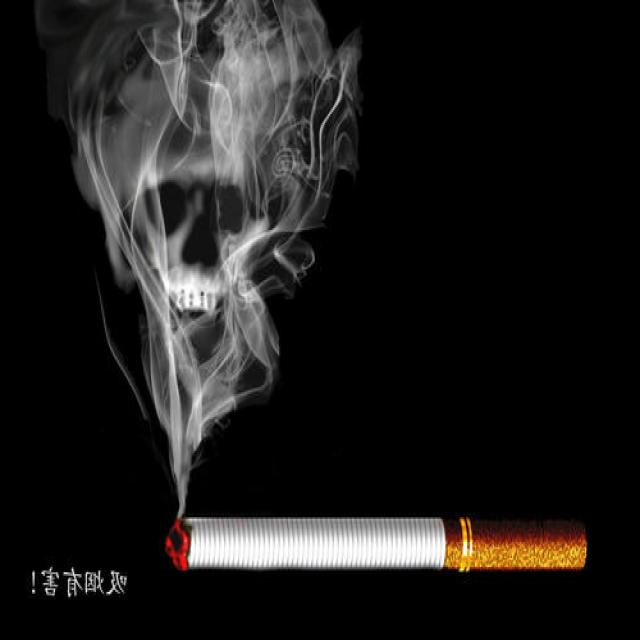smoking: (169, 514, 592, 574)
